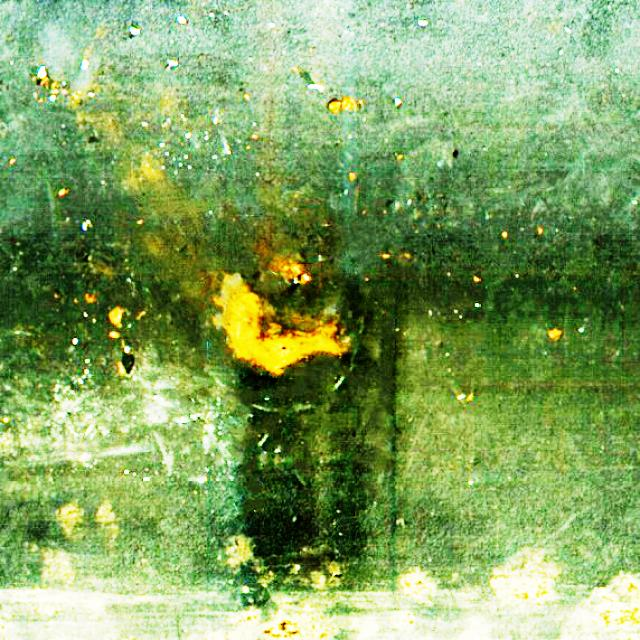Corrosion: (226, 293, 342, 369), (280, 264, 308, 283), (328, 97, 357, 113), (108, 307, 123, 325), (86, 294, 96, 303)
